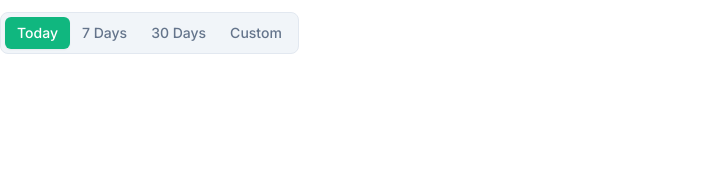
it: PeriodSelector › custom date range › hides date picker after Apply is clicked
Click the button "Custom" at (256, 33), box [218, 17, 294, 49]
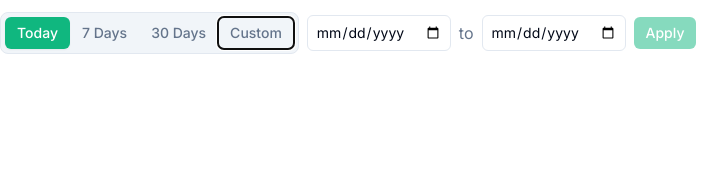
Type "2025-01-01" into the 1st date field at (379, 33), box [307, 15, 451, 51]
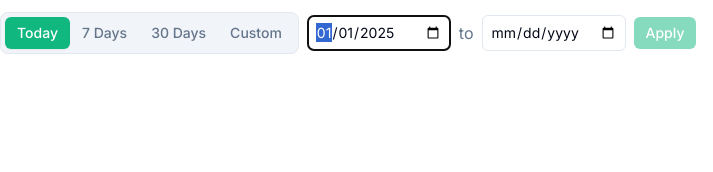
Type "2025-01-06" into the 2nd date field at (554, 33), box [482, 15, 626, 51]
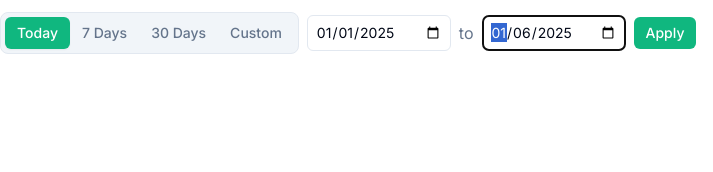
Click the button "Apply" at (665, 33), box [634, 17, 696, 49]
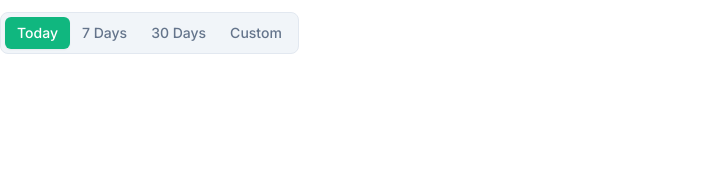
Expected: the button "Apply" is gone
